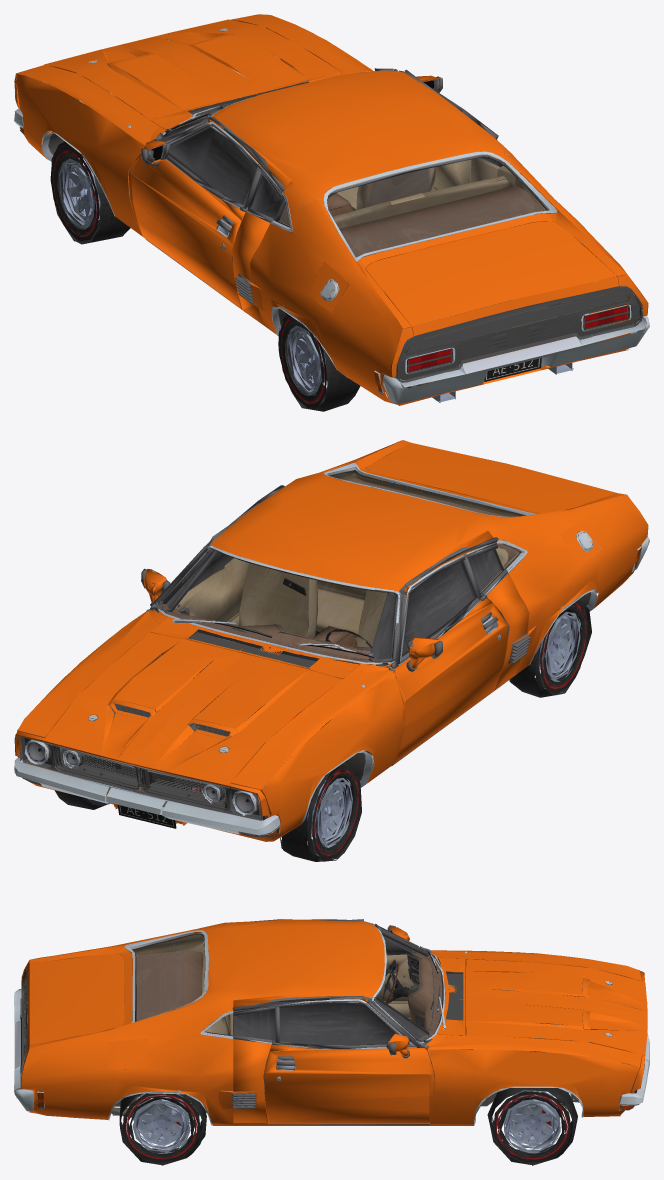
Rendered from harmattan_gt.glb.
3 views of the same model, one above another, from view 1: azimuth 30°, elevation 25°; view 2: azimuth 150°, elevation 25°; view 3: azimuth 270°, elevation 25° (orthographic). The views are drawn at different scales.
Visible parts, largest first — view 1: body, door_FL, wheel_FL, wheel_RL, door_FR; view 2: body, door_FL, door_FR, wheel_FL, wheel_RL; view 3: body, door_FR, wheel_FR, wheel_RR, door_FL.
Boxes of the visible parts, <box> form: body: <box>14,14,649,405</box>; door_FL: <box>131,106,290,324</box>; wheel_FL: <box>50,143,130,244</box>; wheel_RL: <box>278,314,360,411</box>; door_FR: <box>374,68,525,226</box>; body: <box>14,440,649,861</box>; door_FL: <box>354,530,530,765</box>; door_FR: <box>133,485,284,678</box>; wheel_FL: <box>280,763,361,861</box>; wheel_RL: <box>509,599,591,697</box>; body: <box>14,919,649,1152</box>; door_FR: <box>232,990,432,1125</box>; wheel_FR: <box>483,1088,575,1165</box>; wheel_RR: <box>112,1093,206,1165</box>; door_FL: <box>255,919,431,1019</box>.
Size of the model in its own units: 2.1 by 1.46 by 4.77.
Materials: 5 (4 with a texture image).
